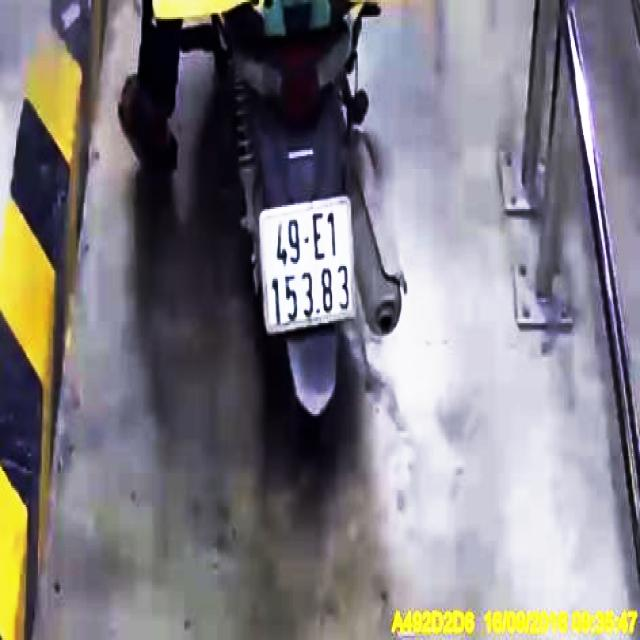license_plate: (262, 200, 359, 336)
